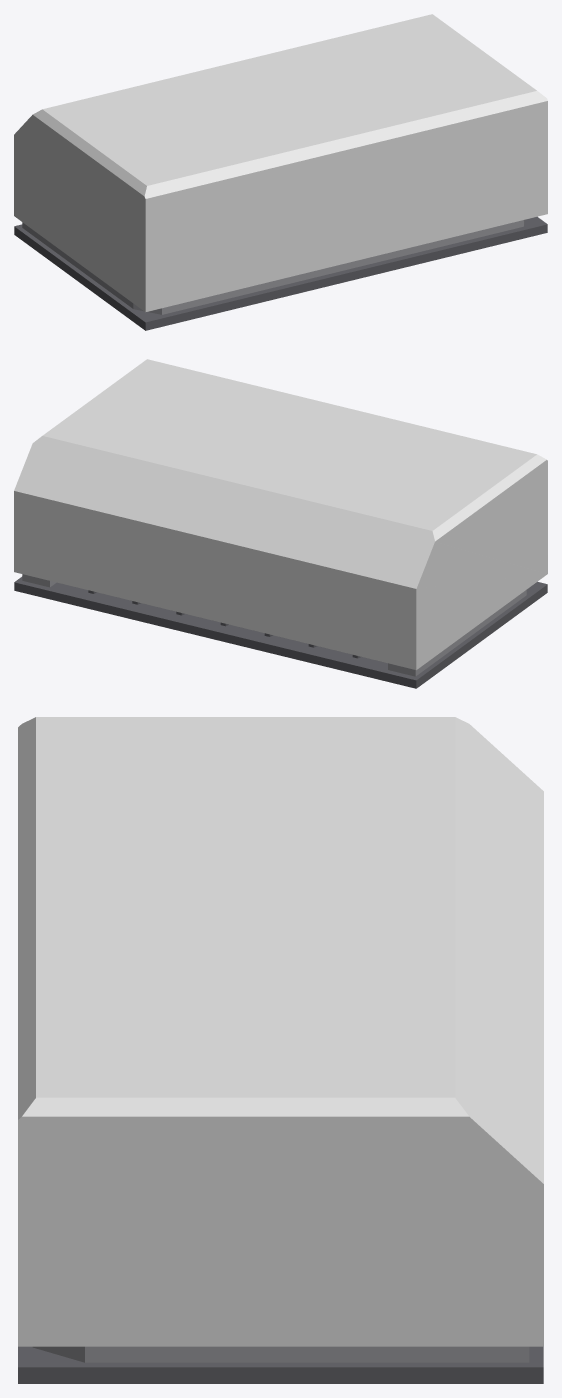
Rendered from SM_Prop_Bed_02.fbx.
3 renders of one model, top to bottom at view 1: azimuth 30°, elevation 25°; view 2: azimuth 150°, elevation 25°; view 3: azimuth 270°, elevation 25°, orthographic. The views are drawn at different scales.
Parts seen in each view (by area): view 1: SM_Prop_Bed_02_ConvexHulls, SM_Prop_Bed_02_LOD0; view 2: SM_Prop_Bed_02_ConvexHulls, SM_Prop_Bed_02_LOD0; view 3: SM_Prop_Bed_02_ConvexHulls, SM_Prop_Bed_02_LOD0.
Part boxes in pixels (<box>): SM_Prop_Bed_02_ConvexHulls: <box>14,14,547,312</box>; SM_Prop_Bed_02_LOD0: <box>14,216,547,330</box>; SM_Prop_Bed_02_ConvexHulls: <box>14,359,547,669</box>; SM_Prop_Bed_02_LOD0: <box>14,574,547,688</box>; SM_Prop_Bed_02_ConvexHulls: <box>18,717,543,1346</box>; SM_Prop_Bed_02_LOD0: <box>18,1346,543,1383</box>.
Bounding box in the file's own units: 191 × 337 × 112.
1 material, 1 textured.
